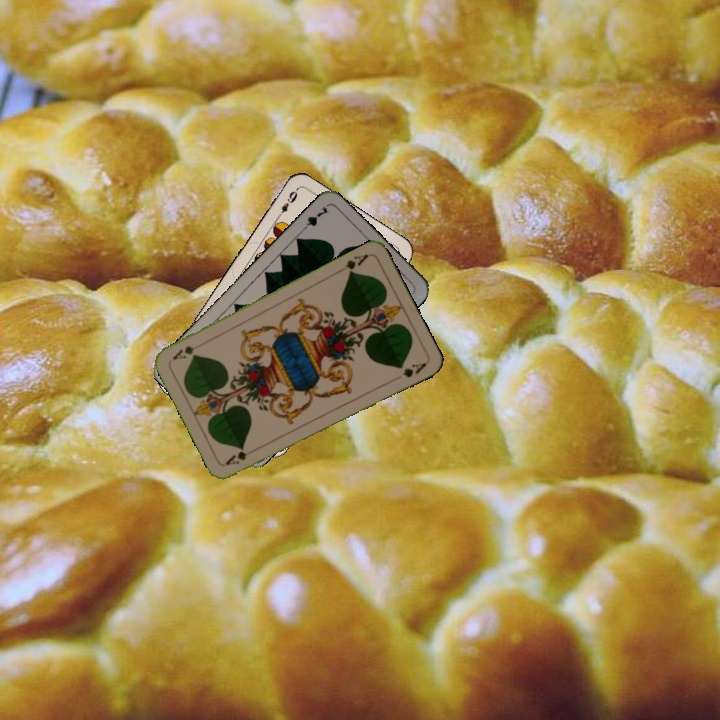E9: (273, 185, 300, 221)
G7: (297, 202, 331, 235)
GA: (335, 250, 371, 277), (221, 444, 259, 468)
